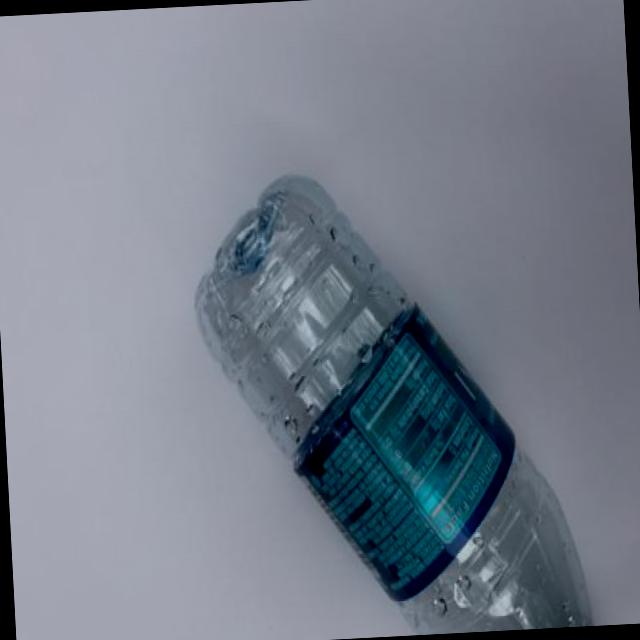Recycle: (187, 162, 592, 640)
